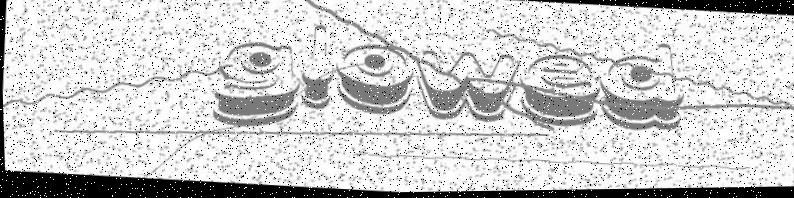d: (588, 38, 693, 144)
e: (515, 50, 607, 139)
g: (211, 34, 306, 132)
l: (295, 15, 338, 119)
o: (328, 36, 417, 120)
w: (409, 40, 523, 131)
